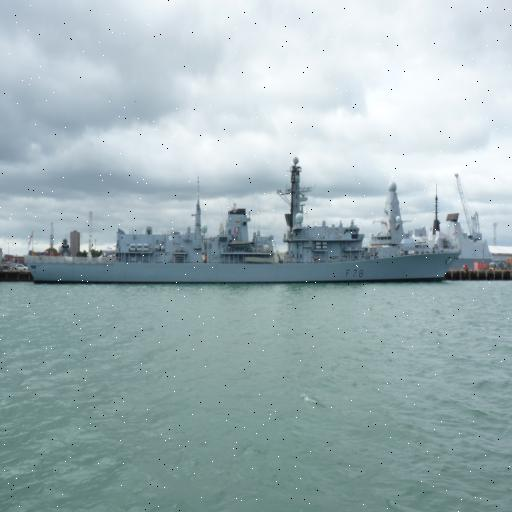Fragata: (22, 187, 463, 290)
